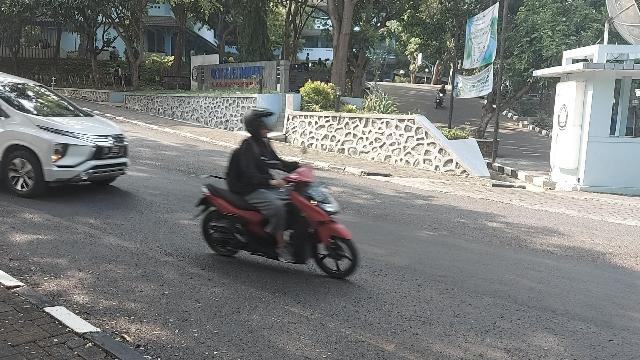helm: (246, 107, 279, 139)
motor: (191, 148, 360, 280)
